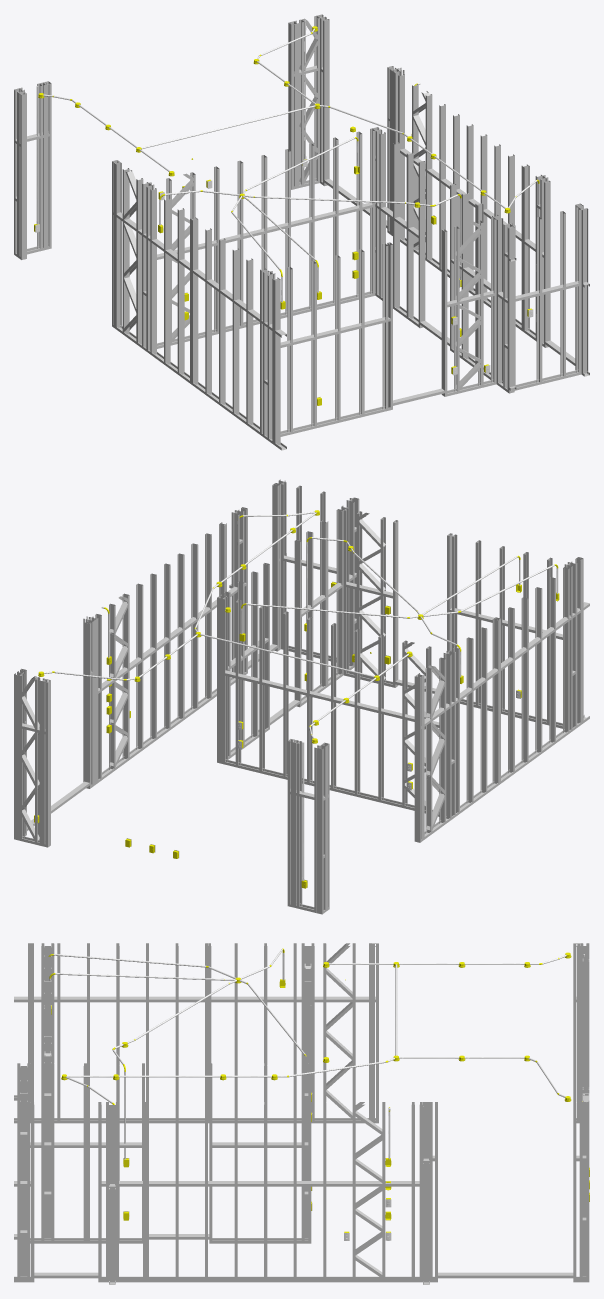
Rendered from suite-closet-master.glb.
3 renders of one model, top to bottom at view 1: azimuth 30°, elevation 25°; view 2: azimuth 150°, elevation 25°; view 3: azimuth 270°, elevation 25°, orthographic. The views are drawn at different scales.
Visible parts, largest first — view 1: DirectShape Modelos genéricos <299470 Componente#1606<, DirectShape Modelos genéricos <299346 Componente#1488<, DirectShape Modelos genéricos <300652 Componente#2055<, DirectShape Modelos genéricos <299355 Componente#1513<, DirectShape Modelos genéricos <299319 Componente#1512<, DirectShape Modelos genéricos <300689 Componente#2073<, DirectShape Modelos genéricos <300606 Componente#1978<, DirectShape Modelos genéricos <299264 Componente#1450<, DirectShape Modelos genéricos <300715 Componente#2110<, DirectShape Modelos genéricos <300773 Componente#2135<, DirectShape Modelos genéricos <300707 Componente#2068<, DirectShape Modelos genéricos <299320 Componente#1482< (+59 smaller); view 2: DirectShape Modelos genéricos <299334 Componente#1489<, DirectShape Modelos genéricos <299330 Componente#1487<, DirectShape Modelos genéricos <299346 Componente#1488<, DirectShape Modelos genéricos <299328 Componente#1476<, DirectShape Modelos genéricos <299319 Componente#1512<, DirectShape Modelos genéricos <299353 Componente#1511<, DirectShape Modelos genéricos <300575 Componente#1982<, DirectShape Modelos genéricos <300751 Componente#2069<, DirectShape Modelos genéricos <300574 Componente#1979<, DirectShape Modelos genéricos <300617 Componente#1983<, DirectShape Modelos genéricos <300652 Componente#2055<, DirectShape Modelos genéricos <299348 Componente#1477< (+63 smaller); view 3: DirectShape Modelos genéricos <300591 Componente#1972<, DirectShape Modelos genéricos <300594 Componente#1976<, DirectShape Modelos genéricos <300737 Componente#2100<, DirectShape Modelos genéricos <300786 Componente#2133<, DirectShape Modelos genéricos <300769 Componente#2138<, DirectShape Modelos genéricos <299306 Componente#1505<, DirectShape Modelos genéricos <300566 Componente#1963<, DirectShape Modelos genéricos <300687 Componente#2039<, DirectShape Modelos genéricos <300670 Componente#2010<, DirectShape Modelos genéricos <299343 Componente#1478<, DirectShape Modelos genéricos <300654 Componente#2017<, DirectShape Modelos genéricos <299267 Componente#1455< (+57 smaller).
Boxes of the visible parts, <box> form: DirectShape Modelos genéricos <299470 Componente#1606<: <box>581,208,588,373</box>; DirectShape Modelos genéricos <299346 Componente#1488<: <box>177,208,184,374</box>; DirectShape Modelos genéricos <300652 Componente#2055<: <box>406,152,413,319</box>; DirectShape Modelos genéricos <299355 Componente#1513<: <box>246,258,253,424</box>; DirectShape Modelos genéricos <299319 Componente#1512<: <box>232,248,239,414</box>; DirectShape Modelos genéricos <300689 Componente#2073<: <box>496,218,503,383</box>; DirectShape Modelos genéricos <300606 Componente#1978<: <box>425,94,432,260</box>; DirectShape Modelos genéricos <299264 Componente#1450<: <box>20,92,26,259</box>; DirectShape Modelos genéricos <300715 Componente#2110<: <box>382,243,388,411</box>; DirectShape Modelos genéricos <300773 Componente#2135<: <box>536,217,542,384</box>; DirectShape Modelos genéricos <300707 Componente#2068<: <box>508,226,514,393</box>; DirectShape Modelos genéricos <299320 Componente#1482<: <box>115,162,121,329</box>; DirectShape Modelos genéricos <299334 Componente#1489<: <box>414,675,421,842</box>; DirectShape Modelos genéricos <299330 Componente#1487<: <box>466,637,473,804</box>; DirectShape Modelos genéricos <299346 Componente#1488<: <box>480,627,487,794</box>; DirectShape Modelos genéricos <299328 Componente#1476<: <box>492,618,499,785</box>; DirectShape Modelos genéricos <299319 Componente#1512<: <box>535,587,542,752</box>; DirectShape Modelos genéricos <299353 Componente#1511<: <box>521,597,528,762</box>; DirectShape Modelos genéricos <300575 Componente#1982<: <box>177,553,184,719</box>; DirectShape Modelos genéricos <300751 Componente#2069<: <box>336,509,343,674</box>; DirectShape Modelos genéricos <300574 Componente#1979<: <box>136,583,143,749</box>; DirectShape Modelos genéricos <300617 Componente#1983<: <box>191,543,198,709</box>; DirectShape Modelos genéricos <300652 Componente#2055<: <box>251,571,258,738</box>; DirectShape Modelos genéricos <299348 Componente#1477<: <box>425,667,432,834</box>; DirectShape Modelos genéricos <300591 Componente#1972<: <box>146,1276,422,1282</box>; DirectShape Modelos genéricos <300594 Componente#1976<: <box>146,1181,422,1186</box>; DirectShape Modelos genéricos <300737 Componente#2100<: <box>44,1062,51,1237</box>; DirectShape Modelos genéricos <300786 Componente#2133<: <box>20,1100,27,1276</box>; DirectShape Modelos genéricos <300769 Componente#2138<: <box>109,1105,115,1283</box>; DirectShape Modelos genéricos <299306 Componente#1505<: <box>31,996,207,1002</box>; DirectShape Modelos genéricos <300566 Componente#1963<: <box>423,1105,429,1282</box>; DirectShape Modelos genéricos <300687 Componente#2039<: <box>582,960,589,1086</box>; DirectShape Modelos genéricos <300670 Componente#2010<: <box>438,1272,573,1278</box>; DirectShape Modelos genéricos <299343 Componente#1478<: <box>211,996,375,1002</box>; DirectShape Modelos genéricos <300654 Componente#2017<: <box>582,1100,589,1276</box>; DirectShape Modelos genéricos <299267 Componente#1455<: <box>304,1062,311,1237</box>.
Size of the model in its own units: 5.26 by 2.65 by 7.8.
